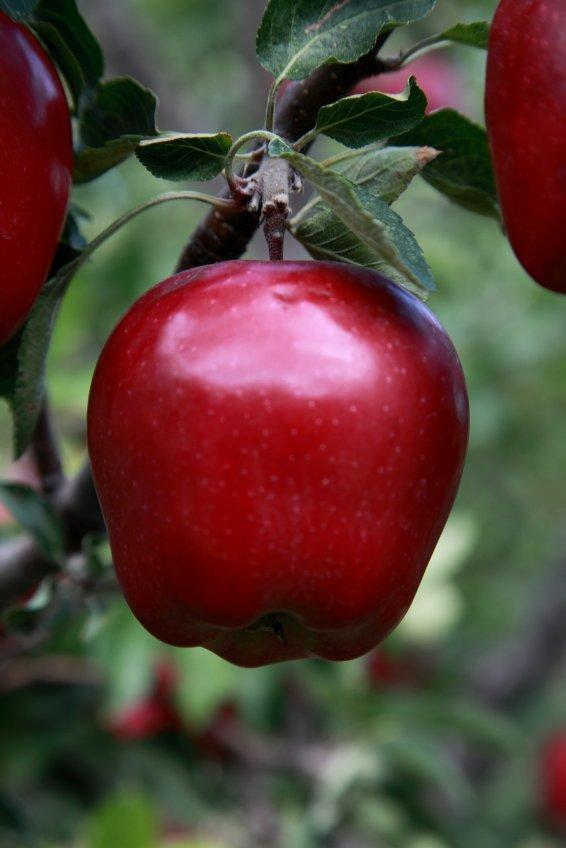apple: (83, 262, 465, 667)
